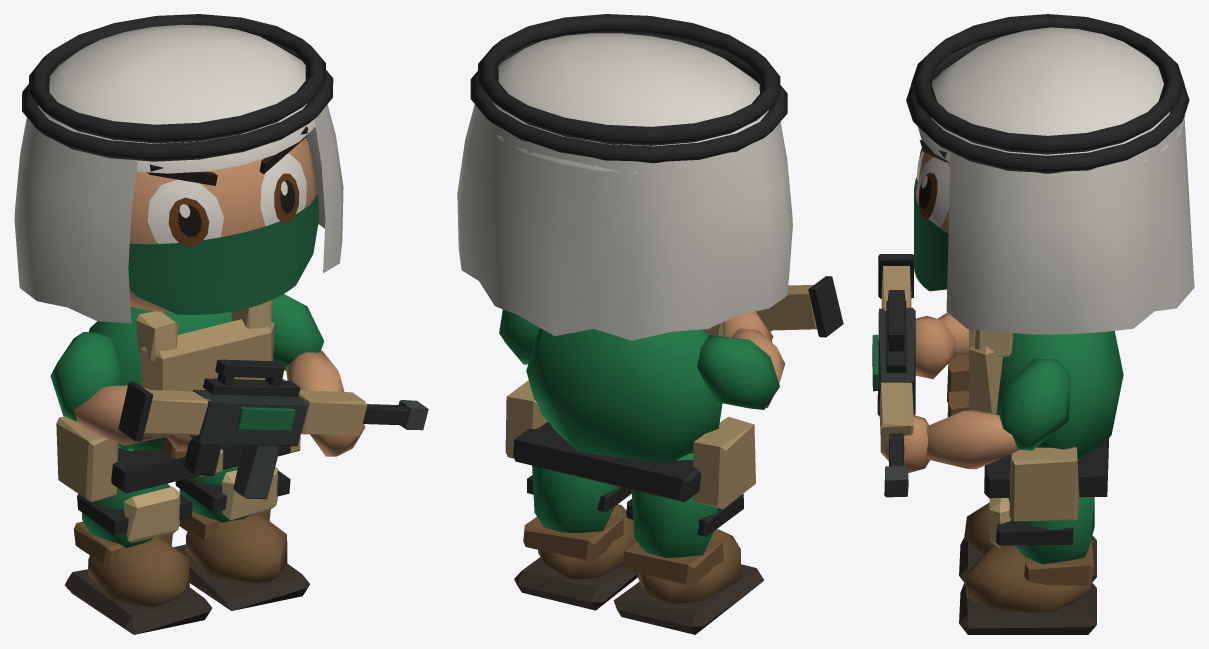
The model's file is recruit-workshop.glb.
3 renders of one model, left to right at view 1: azimuth 30°, elevation 25°; view 2: azimuth 150°, elevation 25°; view 3: azimuth 270°, elevation 25°, orthographic.
Visible parts, largest first — view 1: j1_body_ghutra_drape, j1_body_ghutra_crown, j1_body_face_covering, j1_body_agal_upper, j1_body_agal_lower, j1_body_face, j0_body_plate_carrier, j3_body_boot, j2_body_boot, j5_rifle_receiver, j4_body_left_sleeve, j0_body_hip_pouch (+33 smaller); view 2: j1_body_ghutra_drape, j0_body_uniform_torso, j1_body_ghutra_crown, j1_body_agal_upper, j1_body_agal_lower, j0_body_waist_belt, j4_body_left_sleeve, j0_body_hip_pouch, j2_body_trousers, j3_body_trousers, j2_body_boot_sole, j3_body_boot_sole (+12 smaller); view 3: j1_body_ghutra_drape, j1_body_ghutra_crown, j1_body_agal_upper, j0_body_uniform_torso, j1_body_agal_lower, j0_body_hip_pouch.001, j5_body_right_sleeve, j3_body_boot, j3_body_boot_sole, j5_body_right_forearm, j0_body_waist_belt, j3_body_trousers (+22 smaller).
Boxes of the visible parts, x1,y1,x2,y2 form: j1_body_ghutra_drape: (14,104,343,323); j1_body_ghutra_crown: (38,24,315,173); j1_body_face_covering: (128,195,318,314); j1_body_agal_upper: (29,14,325,143); j1_body_agal_lower: (22,44,333,161); j1_body_face: (129,138,315,312); j0_body_plate_carrier: (140,319,274,391); j3_body_boot: (185,515,287,582); j2_body_boot: (88,537,189,607); j5_rifle_receiver: (190,389,307,446); j4_body_left_sleeve: (50,332,123,421); j0_body_hip_pouch: (56,416,118,501); j1_body_ghutra_drape: (457,104,792,340); j0_body_uniform_torso: (526,328,722,463); j1_body_ghutra_crown: (483,33,768,173); j1_body_agal_upper: (478,14,780,145); j1_body_agal_lower: (470,33,787,163); j0_body_waist_belt: (513,422,700,502); j4_body_left_sleeve: (697,335,779,409); j0_body_hip_pouch: (693,416,755,508); j2_body_trousers: (631,453,718,557); j3_body_trousers: (532,424,617,532); j2_body_boot_sole: (613,564,764,634); j3_body_boot_sole: (514,557,637,610); j1_body_ghutra_drape: (946,120,1194,334); j1_body_ghutra_crown: (918,27,1185,162); j1_body_agal_upper: (911,14,1184,154); j0_body_uniform_torso: (996,331,1123,459); j1_body_agal_lower: (906,39,1189,173); j0_body_hip_pouch.001: (1009,447,1079,521); j5_body_right_sleeve: (999,358,1071,450); j3_body_boot: (964,545,1091,612); j3_body_boot_sole: (959,582,1096,634); j5_body_right_forearm: (926,410,1018,469); j0_body_waist_belt: (984,438,1108,498); j3_body_trousers: (1015,497,1094,564).
Size of the model in its own units: 0.8985 by 1.45 by 0.7825.
